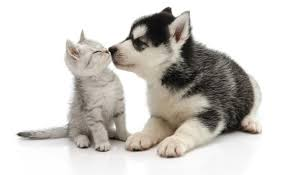cat: (17, 30, 127, 154)
dog: (111, 8, 269, 159)
